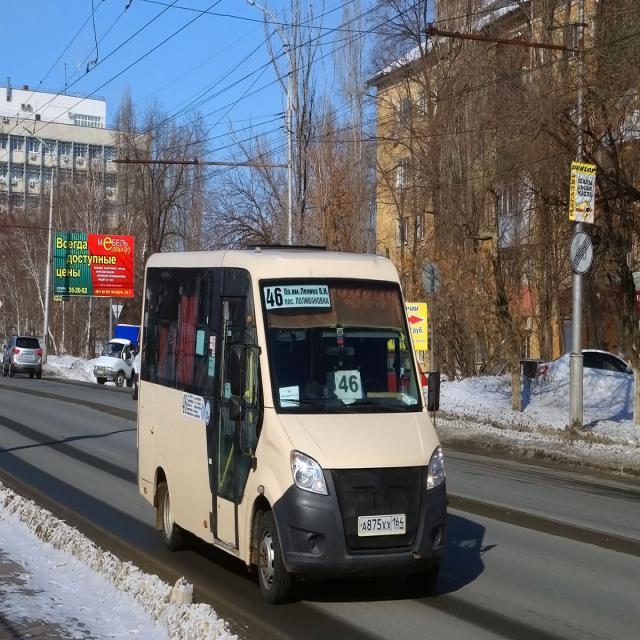number-of-bus: (336, 370, 363, 399), (266, 285, 285, 310)
